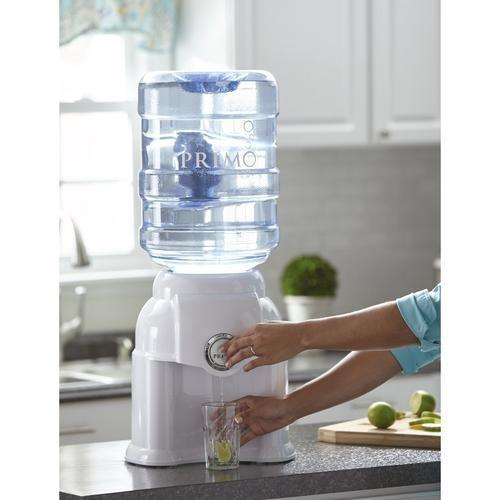Dispenser: (123, 70, 297, 466)
